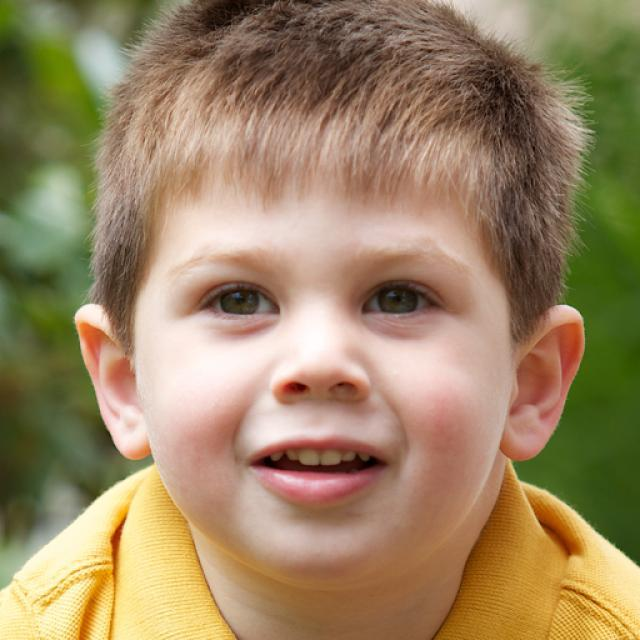happy: (136, 107, 516, 572)
